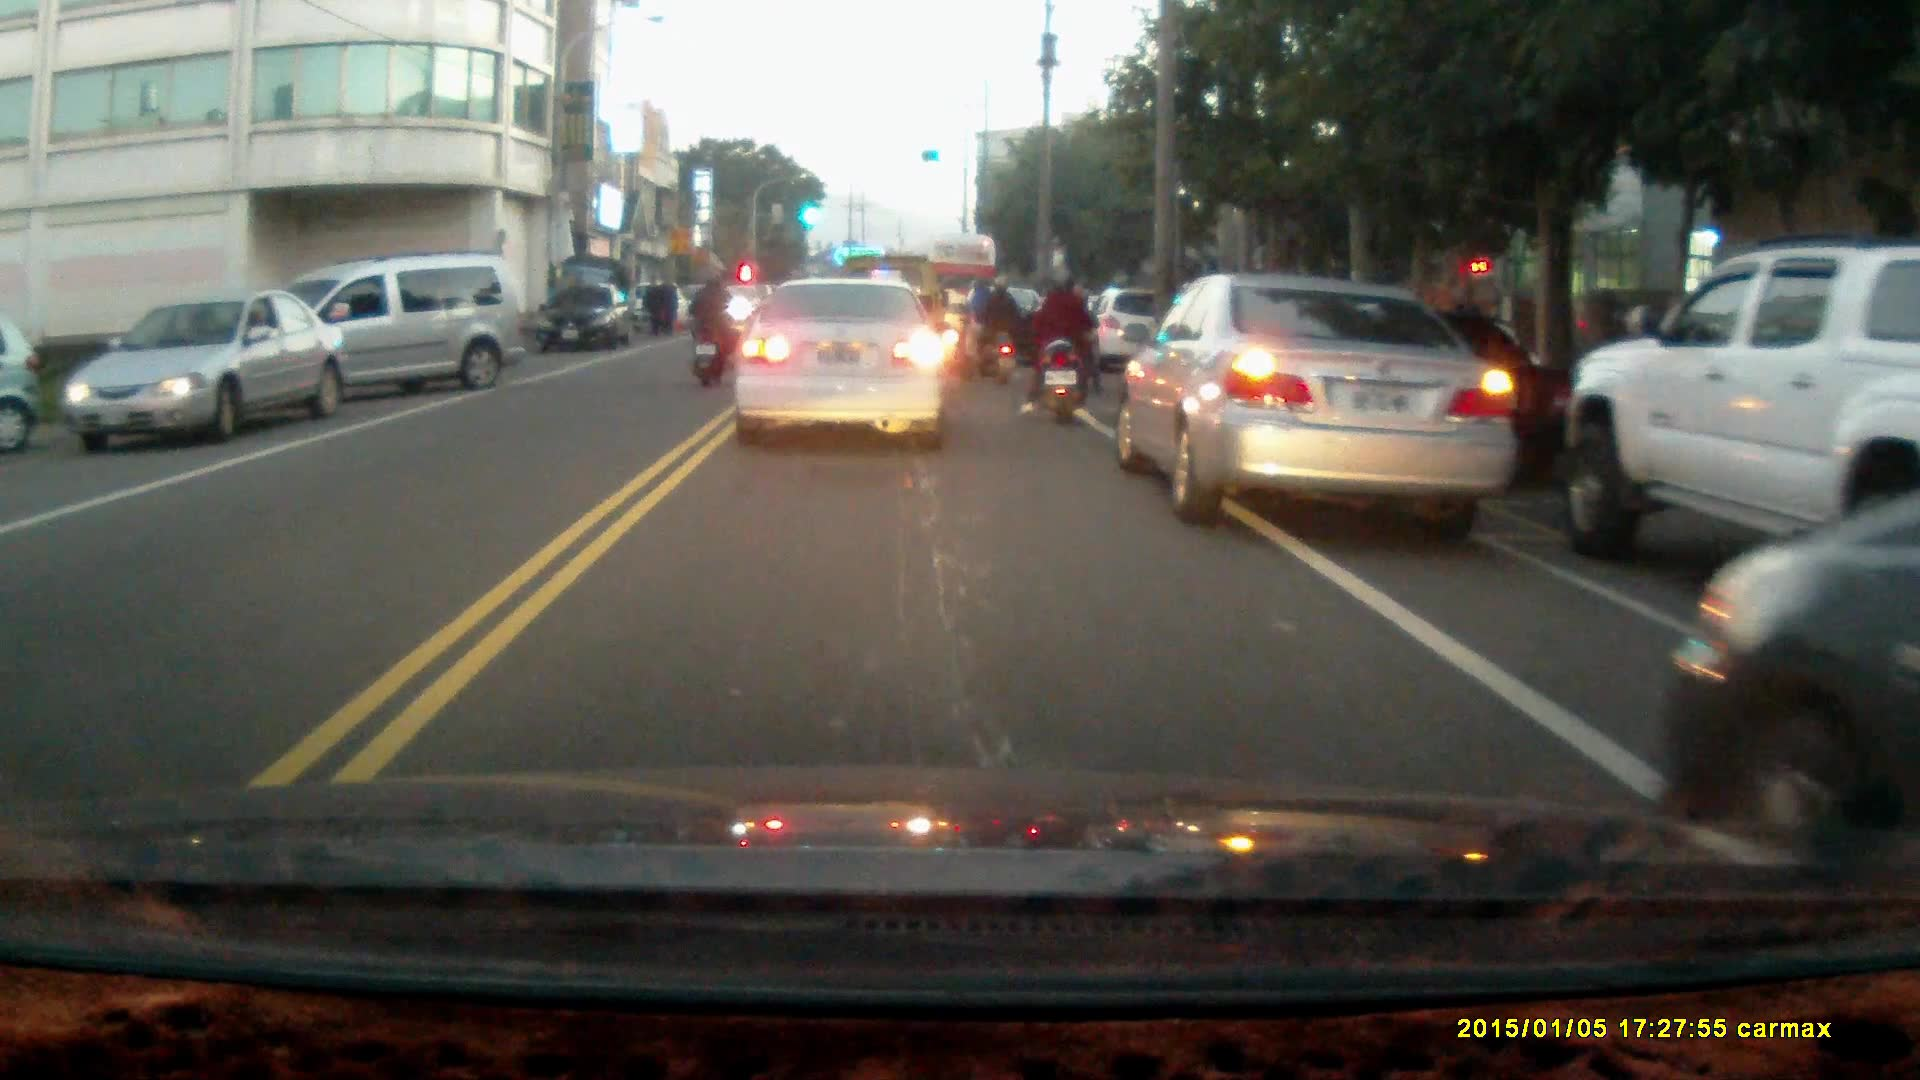pedestrian: (641, 273, 666, 338), (656, 275, 677, 334)
rider: (1019, 266, 1102, 426), (956, 269, 1022, 385), (687, 276, 734, 388)
vehicle: (1554, 239, 1920, 571), (1112, 268, 1513, 528), (1663, 488, 1920, 853), (230, 254, 531, 418), (69, 293, 347, 448), (731, 276, 950, 457), (536, 281, 635, 354), (1, 296, 43, 455)
